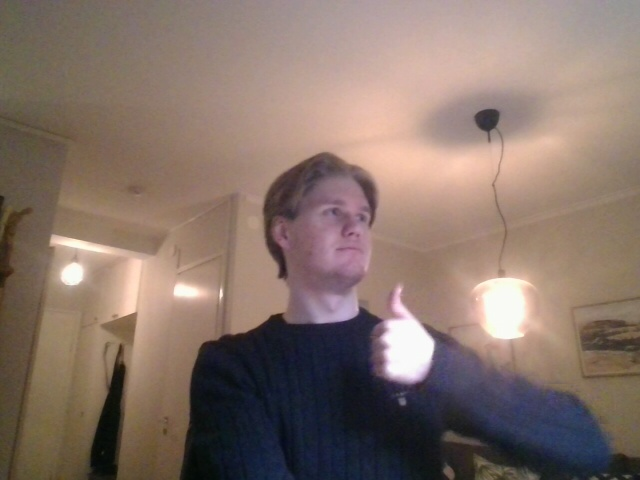ThumbsUp: (368, 283, 425, 388)
